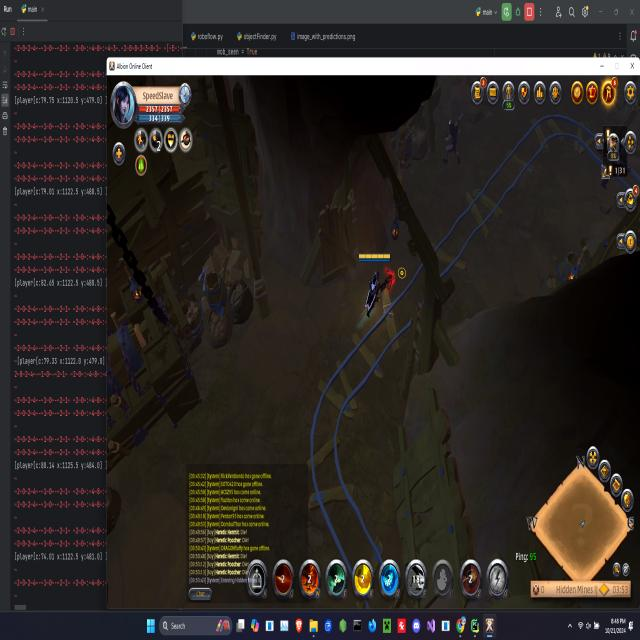ore: (439, 109, 469, 175)
red: (354, 248, 398, 328)
